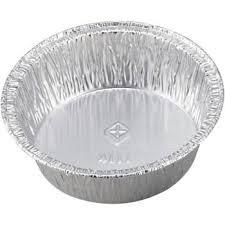metal: (0, 20, 221, 204)
